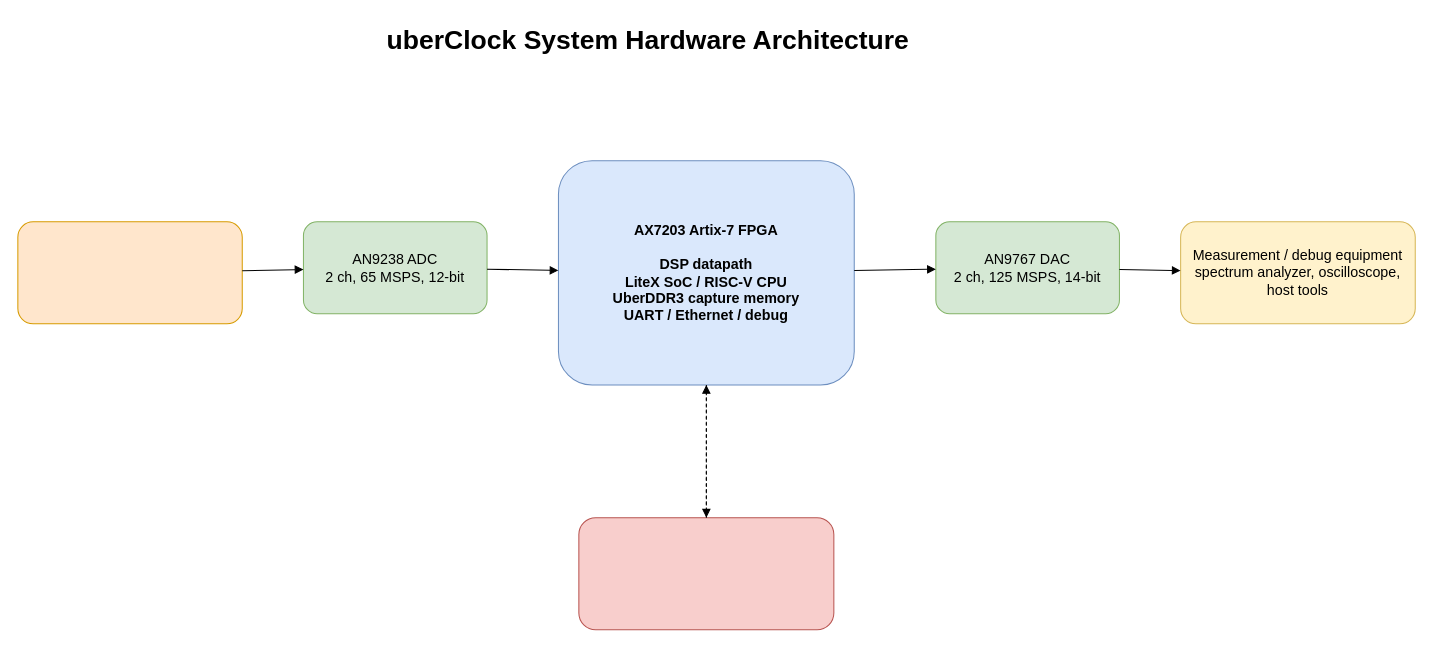
The diagram is 1433 pixels wide and 648 high, and some of its shapes have lost their labels. The box of each missing label's shape, as (x1, y1, x2, y2) in pixels:
Host PC UART / Ethernet Python analysis, capture tools, firmware console: (578, 517, 834, 630)
Physics package multi-mode quartz crystal analog front-end: (17, 221, 242, 324)
